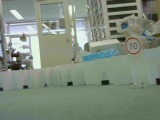speed_10: (123, 36, 142, 56)
